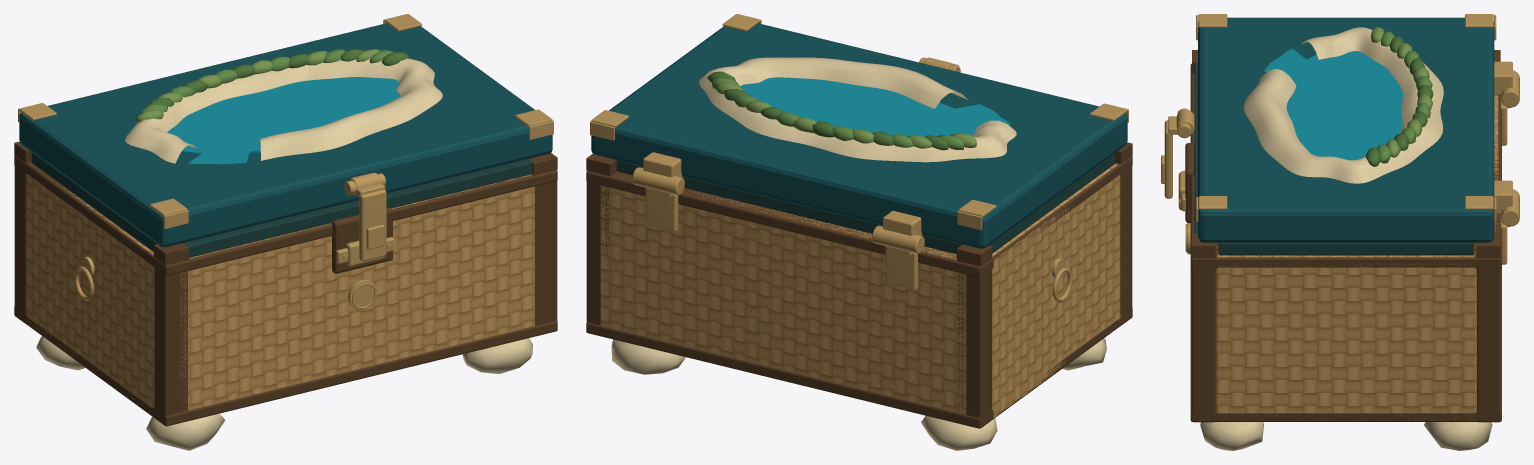
The model's file is kiribati.glb.
3 renders of one model, left to right at view 1: azimuth 30°, elevation 25°; view 2: azimuth 150°, elevation 25°; view 3: azimuth 270°, elevation 25°, orthographic. The views are drawn at different scales.
Visible parts, largest first — view 1: Pandanus / front, Lid / polished slab, Pandanus / side, Atoll / continuous C rim, Lagoon / inset basin, Seam / long, Frame / corner post, Frame / long rail, Frame / long rail.001, Frame / corner post.002, Frame / corner post.001, Frame / short rail.001 (+10 smaller); view 2: Pandanus / rear, Lid / polished slab, Pandanus / side, Atoll / continuous C rim, Lagoon / inset basin, Frame / long rail.003, Frame / corner post.001, Frame / long rail.002, Seam / long.001, Frame / corner post.003, Frame / corner post, Coral foot.001 (+14 smaller); view 3: Lid / polished slab, Pandanus / side.001, Atoll / continuous C rim, Lagoon / inset basin, Frame / corner post.003, Frame / corner post.002, Seam / side.001, Frame / short rail.003, Frame / short rail.002, Coral foot.003, Coral foot.002, Frame / long rail.003 (+18 smaller).
Part boxes in pixels (bbox=[...]): Pandanus / front: bbox=[180, 174, 534, 410]; Lid / polished slab: bbox=[19, 23, 552, 247]; Pandanus / side: bbox=[26, 174, 154, 411]; Atoll / continuous C rim: bbox=[125, 58, 442, 163]; Lagoon / inset basin: bbox=[167, 77, 400, 154]; Seam / long: bbox=[183, 159, 532, 257]; Frame / corner post: bbox=[154, 258, 187, 425]; Frame / long rail: bbox=[155, 321, 557, 426]; Frame / long rail.001: bbox=[154, 170, 557, 275]; Frame / corner post.002: bbox=[535, 181, 557, 325]; Frame / corner post.001: bbox=[14, 156, 26, 323]; Frame / short rail.001: bbox=[24, 162, 159, 270]; Pandanus / rear: bbox=[600, 185, 966, 414]; Lid / polished slab: bbox=[591, 23, 1127, 248]; Pandanus / side: bbox=[992, 164, 1120, 417]; Atoll / continuous C rim: bbox=[699, 57, 1016, 162]; Lagoon / inset basin: bbox=[740, 77, 980, 136]; Frame / long rail.003: bbox=[586, 171, 990, 277]; Frame / corner post.001: bbox=[958, 259, 991, 427]; Frame / long rail.002: bbox=[586, 322, 989, 428]; Seam / long.001: bbox=[616, 160, 962, 254]; Frame / corner post.003: bbox=[586, 182, 608, 325]; Frame / corner post: bbox=[1120, 157, 1132, 324]; Coral foot.001: bbox=[921, 416, 997, 450]; Lid / polished slab: bbox=[1198, 17, 1494, 242]; Pandanus / side.001: bbox=[1215, 250, 1476, 420]; Atoll / continuous C rim: bbox=[1243, 27, 1443, 183]; Lagoon / inset basin: bbox=[1286, 51, 1402, 160]; Frame / corner post.003: bbox=[1477, 258, 1500, 422]; Frame / corner post.002: bbox=[1192, 258, 1215, 422]; Seam / side.001: bbox=[1218, 242, 1473, 255]; Frame / short rail.003: bbox=[1200, 250, 1491, 268]; Frame / short rail.002: bbox=[1200, 411, 1492, 421]; Coral foot.003: bbox=[1424, 422, 1492, 450]; Coral foot.002: bbox=[1200, 422, 1263, 450]; Frame / long rail.003: bbox=[1479, 95, 1501, 268].
Bounding box in the file's own units: 3.79 × 2.49 × 2.88.
Materials: 10 (2 with a texture image).
